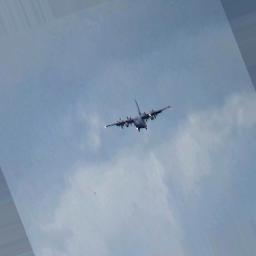Airplane: (104, 97, 171, 134)
